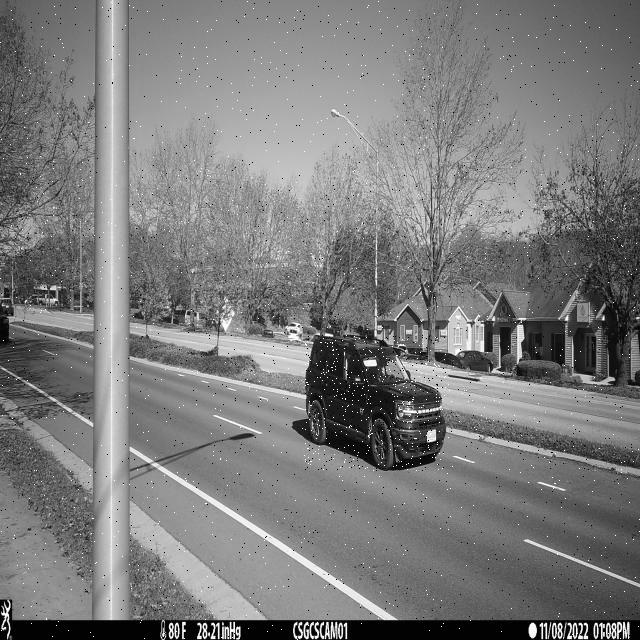SUV: (305, 335, 446, 471)
